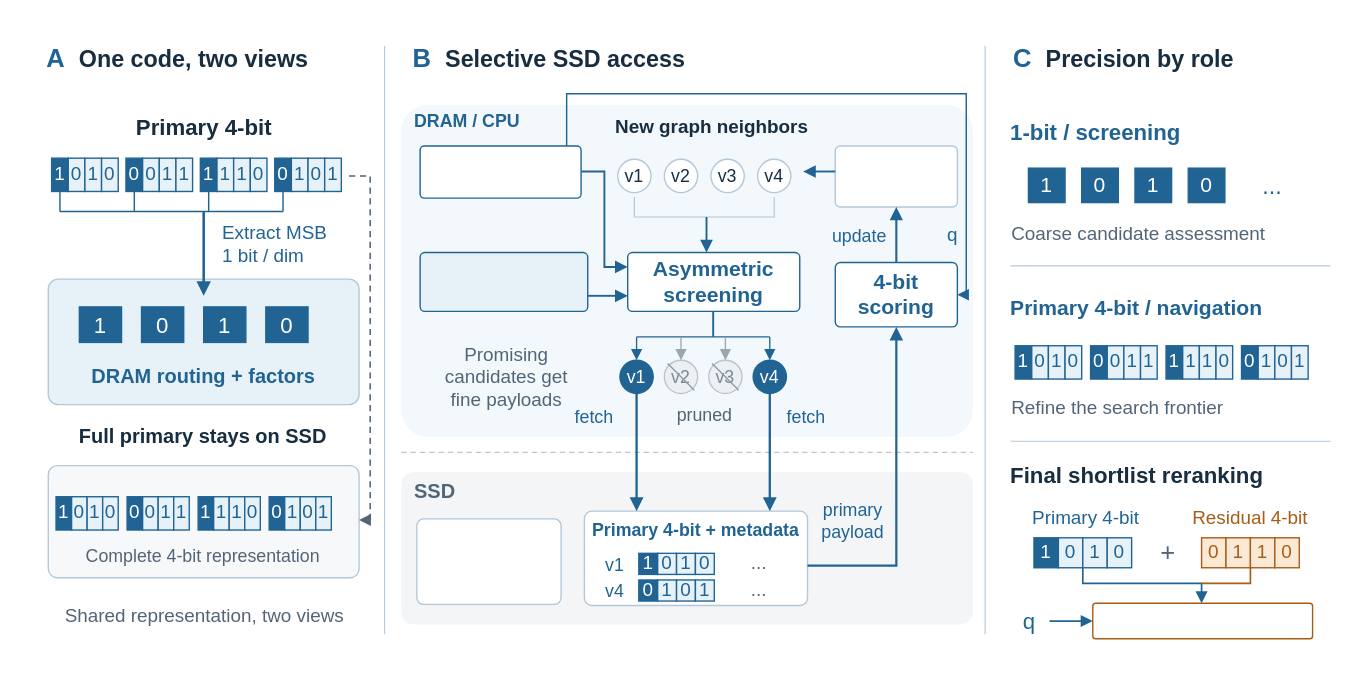
The diagram is 1370 pixels wide and 682 high, and some of its shapes have lost their labels. Here are the shapes that lost their labels. From the top down, the centre of each, then its label:
At pixel 500 171: "Real-valued query q".
At pixel 896 176: "Search frontier".
At pixel 503 281: "Derived 1-bit codes + factors".
At pixel 488 561: "Graph adjacency".
At pixel 1202 620: "Refined ranking".
